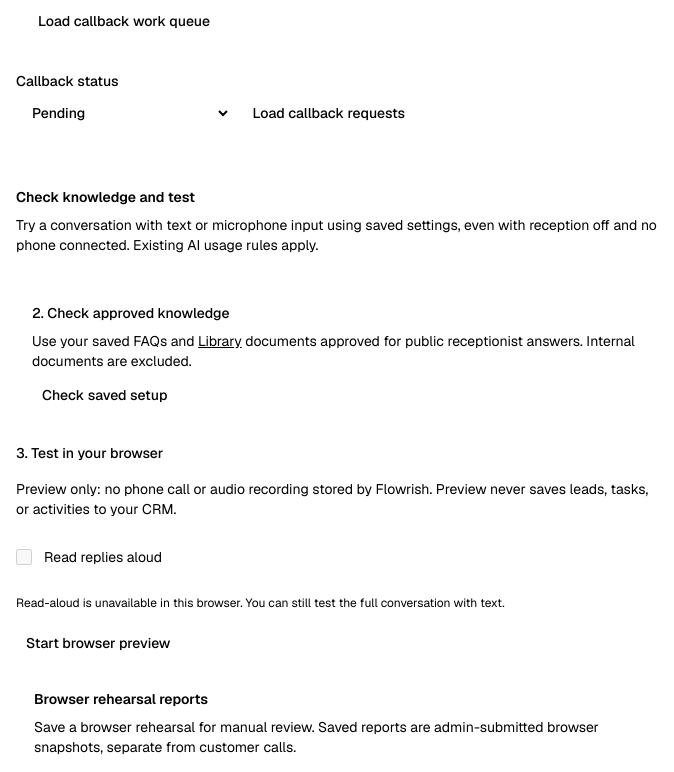
Test: receptionist onboarding and browser preview › checks saved knowledge lazily and explains missing knowledge without claiming phone verification
(page scrolled)
Click the button "Check saved setup". click: (105, 395)
box: [32,379,178,411]
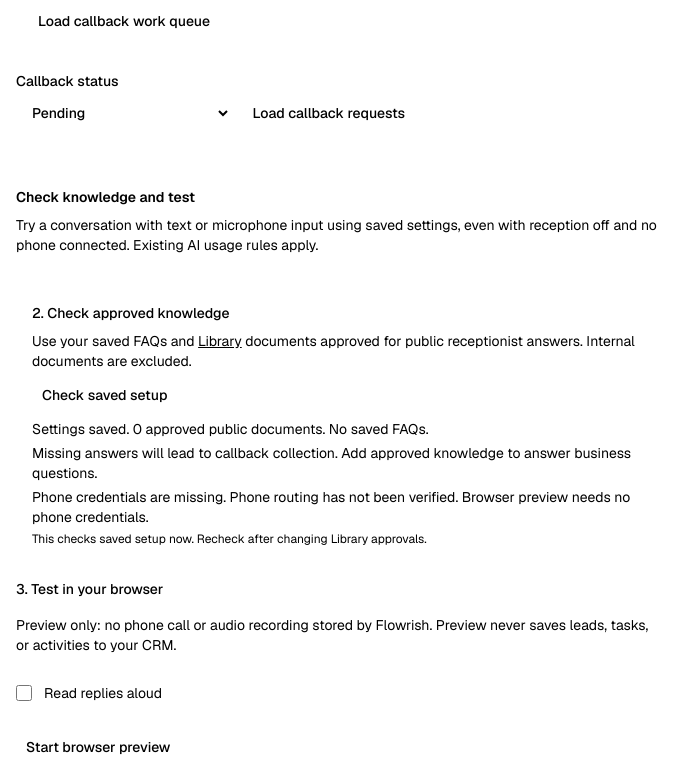
Now the text "Settings saved. 0 approved public documents. No saved FAQs." is shown, box [32,420,429,438]
Now the text "Missing answers will lead to callback collection" is shown, box [32,444,631,482]
Now the text "Phone credentials are missing" is shown, box [32,488,226,506]
